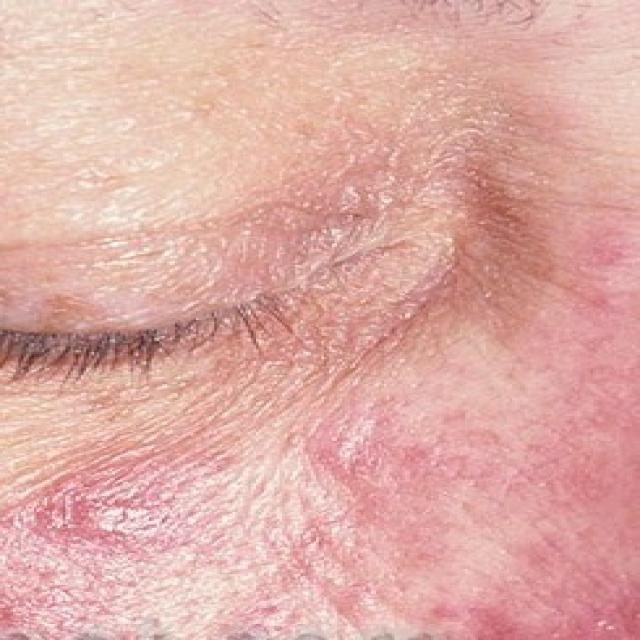Rosacea: (282, 204, 640, 639), (15, 438, 228, 568)
